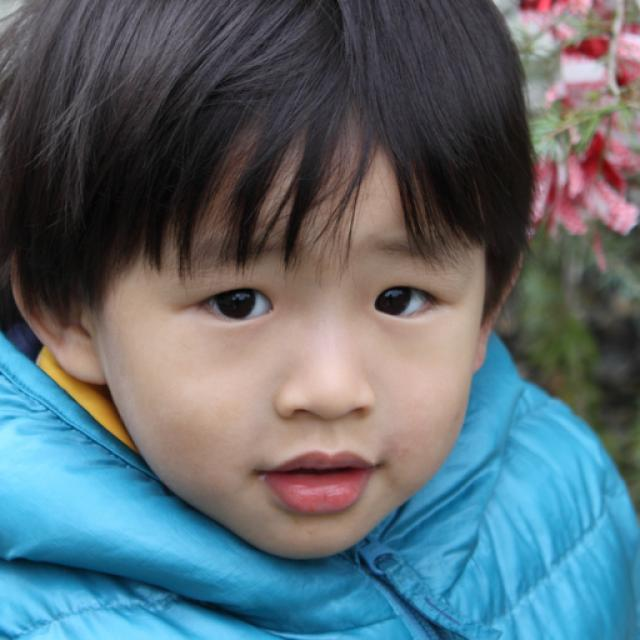neutral: (101, 160, 479, 561)
